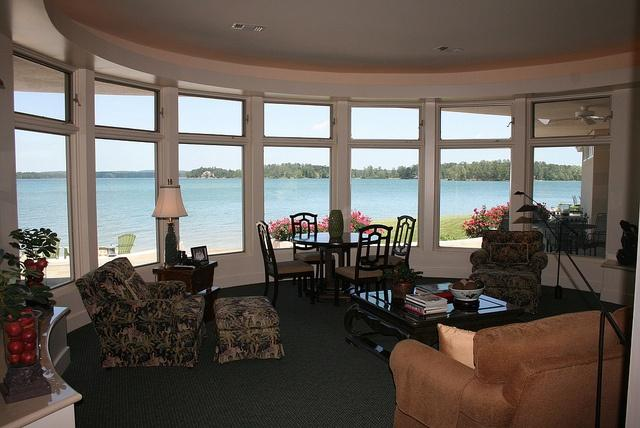Kursi: (254, 218, 315, 308), (333, 223, 392, 307)
